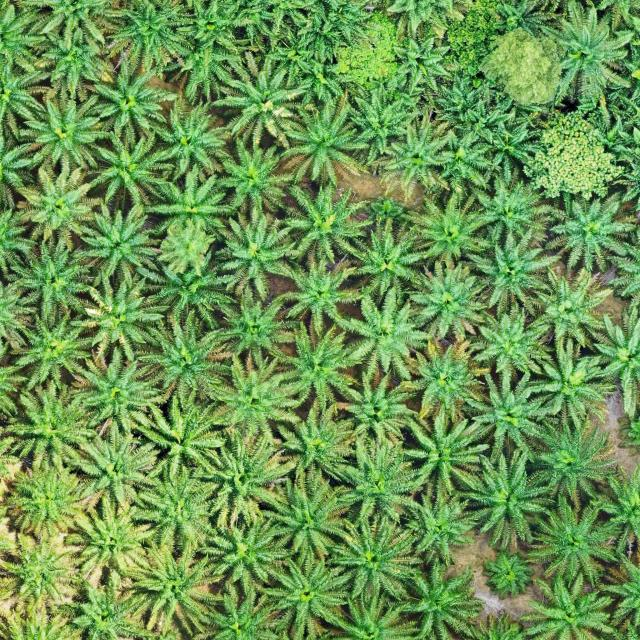Tree: (127, 302, 239, 403), (535, 3, 633, 116), (450, 448, 554, 553), (190, 428, 292, 530), (272, 318, 368, 422), (124, 539, 219, 640), (206, 52, 308, 146), (124, 455, 222, 551), (68, 272, 168, 366), (342, 282, 436, 381), (523, 492, 622, 586), (332, 429, 428, 525), (525, 406, 624, 499), (65, 351, 166, 442), (197, 348, 306, 432), (515, 342, 616, 432), (17, 82, 118, 172), (324, 512, 422, 604), (193, 507, 299, 591), (462, 230, 563, 318), (129, 397, 227, 487), (59, 499, 153, 592), (207, 208, 298, 304), (138, 245, 240, 330), (8, 375, 102, 466), (543, 186, 638, 276), (196, 286, 296, 371), (336, 218, 432, 306), (396, 407, 486, 499), (255, 551, 348, 640), (70, 422, 164, 509), (396, 554, 490, 640), (80, 57, 179, 138), (273, 182, 372, 262), (399, 186, 498, 266), (272, 101, 363, 188), (142, 168, 234, 254), (390, 339, 489, 418), (269, 462, 353, 554), (460, 369, 544, 459), (348, 70, 424, 168), (70, 201, 158, 285), (1, 238, 91, 320), (273, 394, 359, 479), (531, 261, 617, 346), (270, 253, 362, 332), (145, 98, 233, 180), (382, 109, 460, 200), (15, 165, 100, 248), (12, 308, 95, 392), (474, 164, 556, 248), (407, 260, 490, 342), (80, 128, 166, 207), (334, 368, 421, 446), (31, 21, 121, 96), (217, 136, 299, 217), (518, 572, 614, 640), (0, 527, 80, 606), (397, 490, 476, 568), (471, 301, 554, 375), (7, 459, 86, 535), (66, 581, 158, 640), (162, 30, 243, 96), (195, 585, 289, 640), (429, 125, 498, 190), (388, 32, 460, 91), (485, 549, 535, 600)
